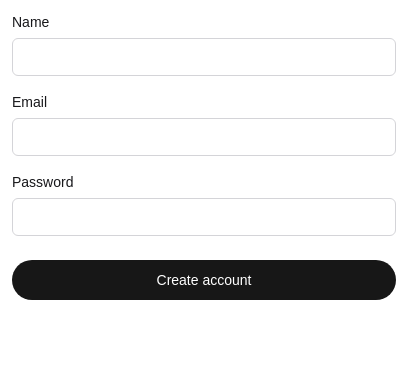
Test case: RegisterForm › shows a clear error for a weak password without redirecting
Type "Ada Lovelace" into the field labelled "Name" at [204, 57], box [12,38,396,76]
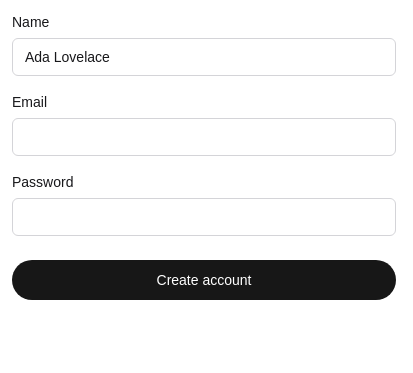
Type "ada@example.com" into the field labelled "Email" at [204, 137], box [12,118,396,156]
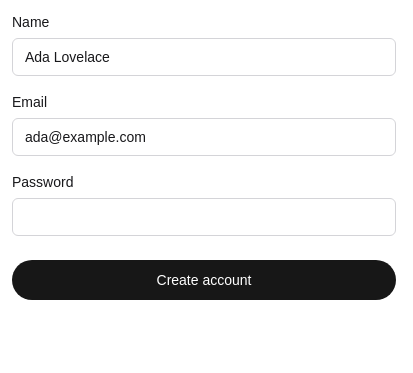
Type "correcthorse1" into the password field labelled "Password" at [204, 217], box [12,198,396,236]
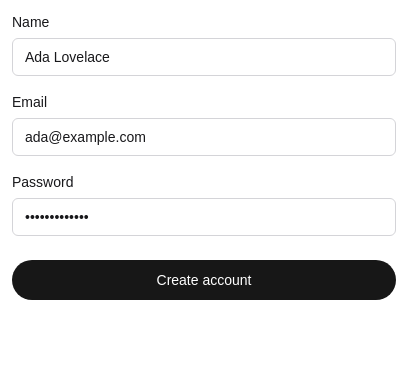
Click the button "Create account" at [204, 280], box [12,260,396,300]
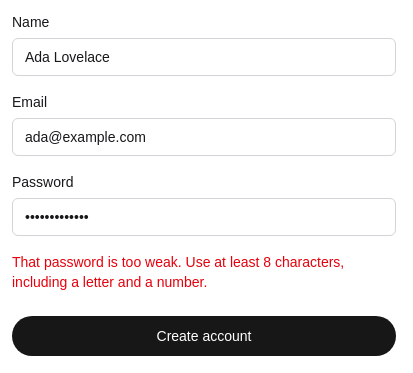
Now the message shows "That password is too weak. Use at least 8 characters, including a letter and a number.", box [12,254,344,290]
